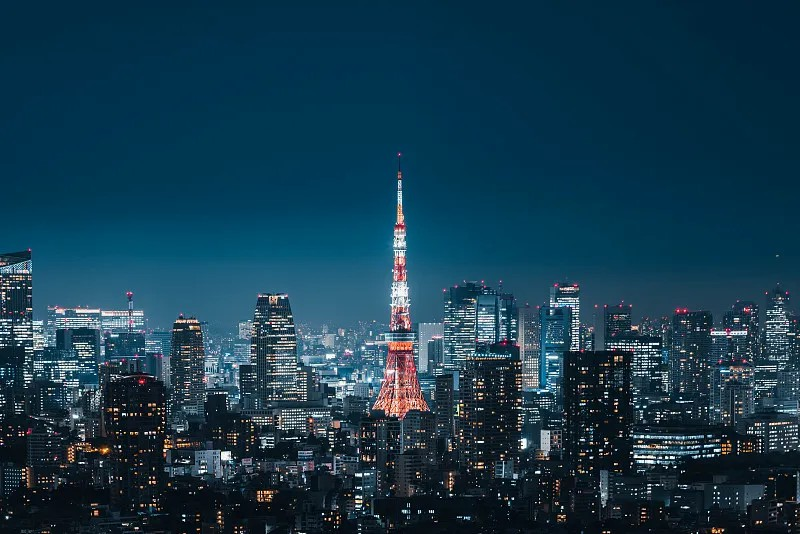Tokyo: (372, 149, 431, 421)
